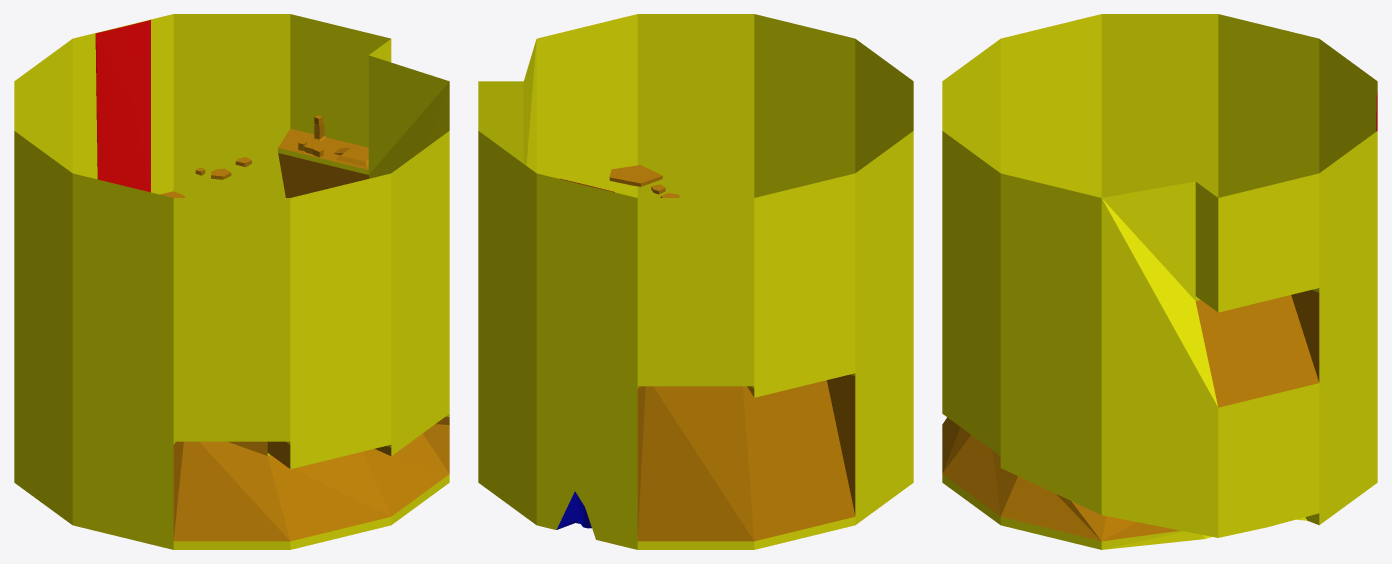
Rendered from lll_segment7.0x25EF0.collision.obj.
3 views of the same model, side by side, from view 1: azimuth 30°, elevation 25°; view 2: azimuth 150°, elevation 25°; view 3: azimuth 270°, elevation 25° (orthographic).
Visible parts, largest first — view 1: lll_segment7_25EF0_normal, lll_segment7_25EF0_climbable, lll_segment7_25EF0_lethal_lava; view 2: lll_segment7_25EF0_normal, lll_segment7_25EF0_climbable, lll_segment7_25EF0_very_slippery; view 3: lll_segment7_25EF0_normal, lll_segment7_25EF0_climbable.
Boxes of the visible parts, x1=… form: lll_segment7_25EF0_normal: x1=14, y1=14, x2=449, y2=549; lll_segment7_25EF0_climbable: x1=160, y1=115, x2=449, y2=541; lll_segment7_25EF0_lethal_lava: x1=95, y1=20, x2=150, y2=192; lll_segment7_25EF0_normal: x1=478, y1=14, x2=913, y2=549; lll_segment7_25EF0_climbable: x1=609, y1=165, x2=855, y2=541; lll_segment7_25EF0_very_slippery: x1=556, y1=491, x2=591, y2=529; lll_segment7_25EF0_normal: x1=942, y1=14, x2=1377, y2=549; lll_segment7_25EF0_climbable: x1=942, y1=290, x2=1319, y2=541.
Size of the model in its own units: 5.75 by 5.12 by 5.75.
